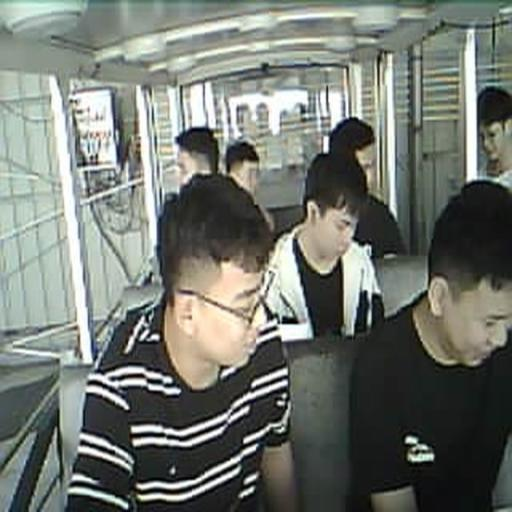persona: (64, 172, 298, 511), (349, 178, 511, 511), (264, 151, 386, 343), (328, 116, 405, 258), (476, 85, 512, 190), (174, 126, 220, 190), (224, 141, 258, 199)
